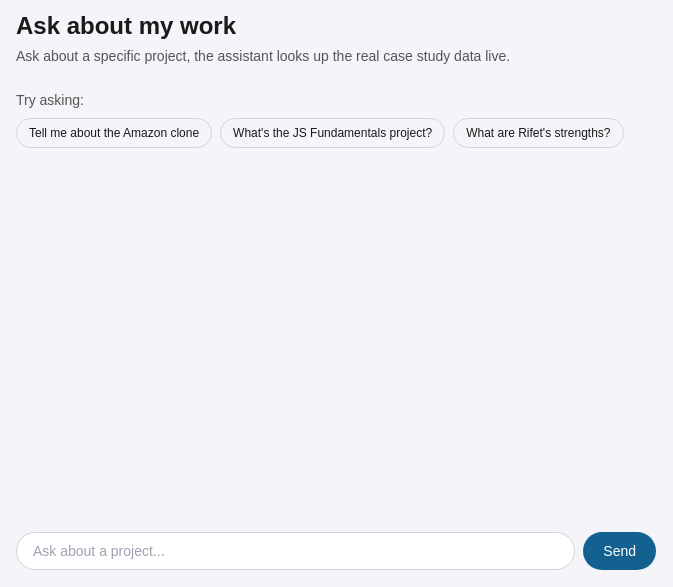
Test case: ChatPage — empty state › fills the input when an example prompt is clicked
Click the button "Tell me about the Amazon clone" at [114, 133], box [16,118,212,148]
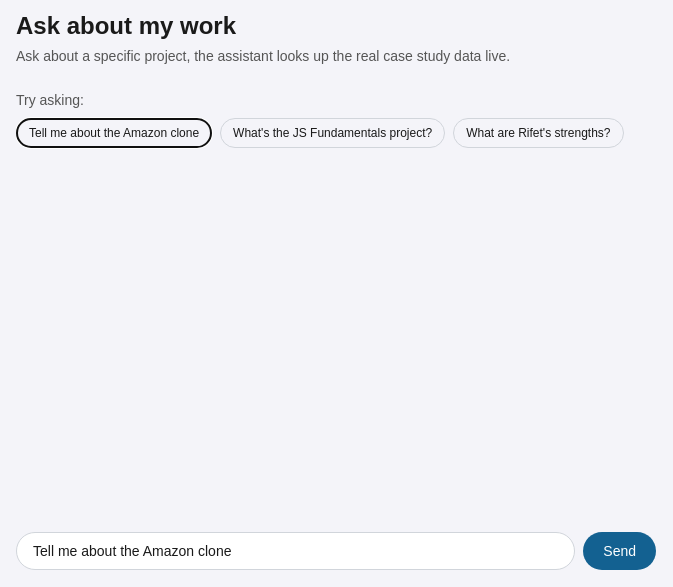
Expected: the field with placeholder "Ask about a project..." holds "Tell me about the Amazon clone", [16,532,575,570]
